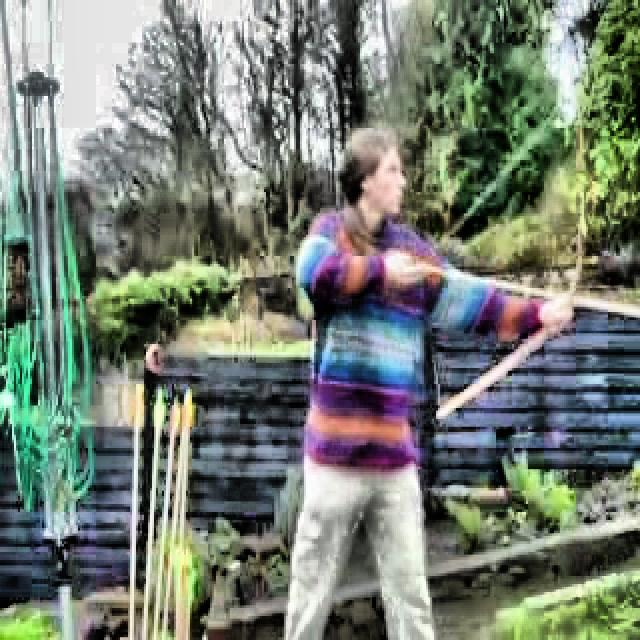I: (272, 128, 568, 634)
